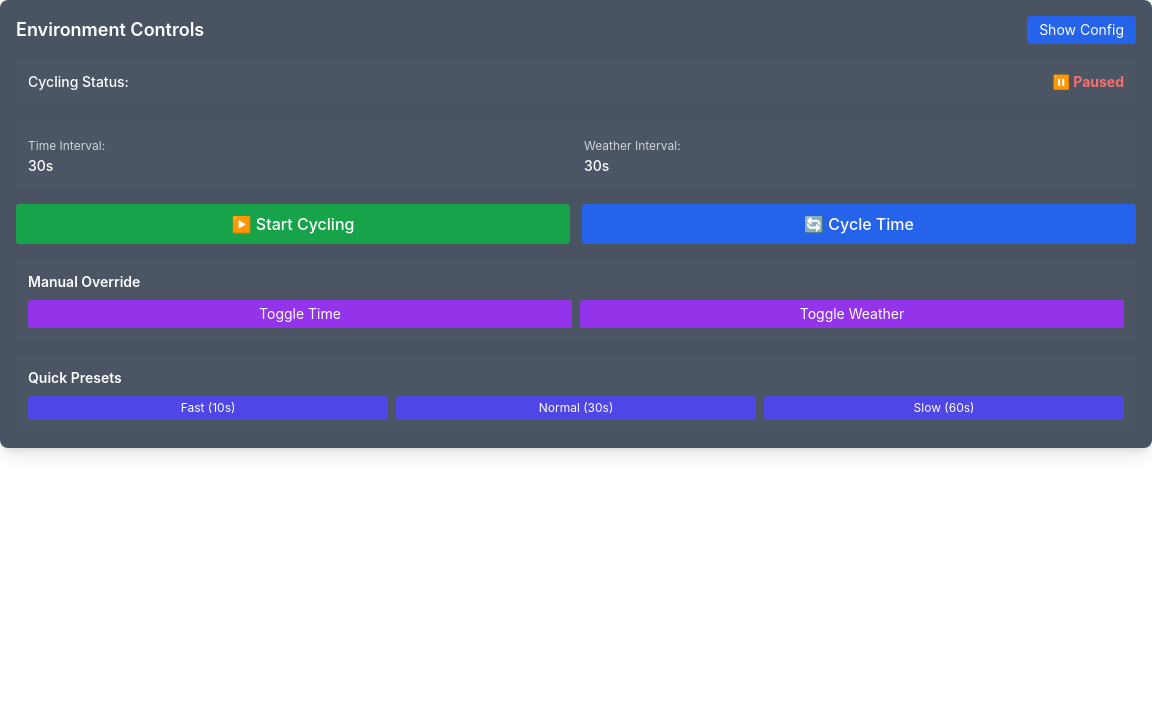
EnvironmentControlsContainer › configuration panel › should show config panel when toggle is clicked
Click the button with test id "config-toggle".
click(1082, 30)  # box [1027,16,1136,44]
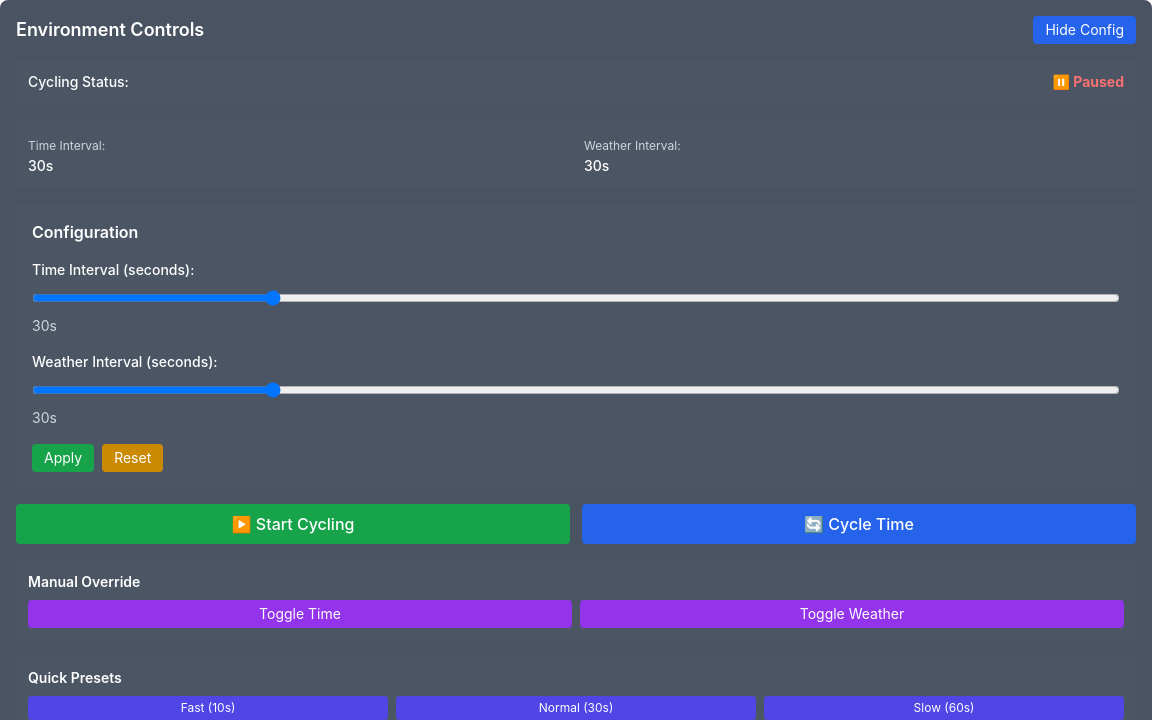
Expected: the button with test id "apply-config" is shown, [32,444,94,472]
Expected: the button with test id "reset-config" is shown, [102,444,163,472]
